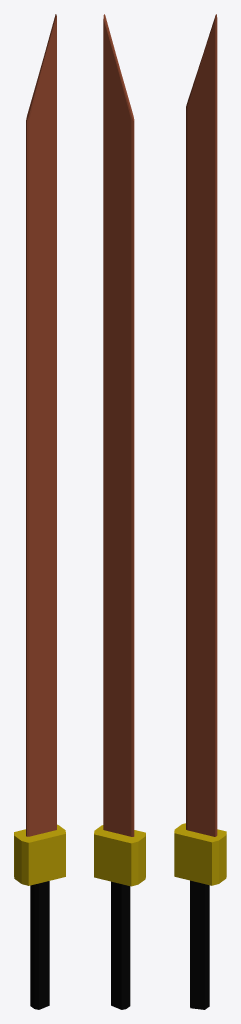
Rendered from Sword.fbx.
3 renders of one model, left to right at view 1: azimuth 30°, elevation 25°; view 2: azimuth 150°, elevation 25°; view 3: azimuth 330°, elevation 25°, orthographic.
Visible parts, largest first — view 1: Sword; view 2: Sword; view 3: Sword.
Part boxes in pixels (box(x1,y1,x2,y2)): Sword: box(14, 14, 65, 1009); Sword: box(94, 14, 145, 1009); Sword: box(174, 14, 226, 1009).
Size of the model in its own units: 0.5314 by 11.39 by 0.307.
